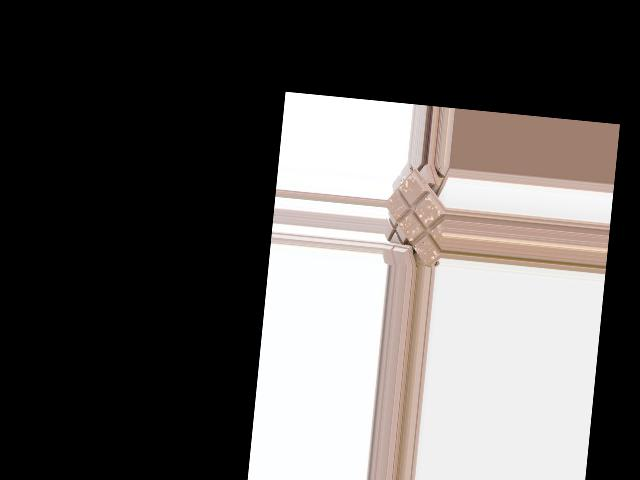chocolate: (382, 173, 449, 266)
